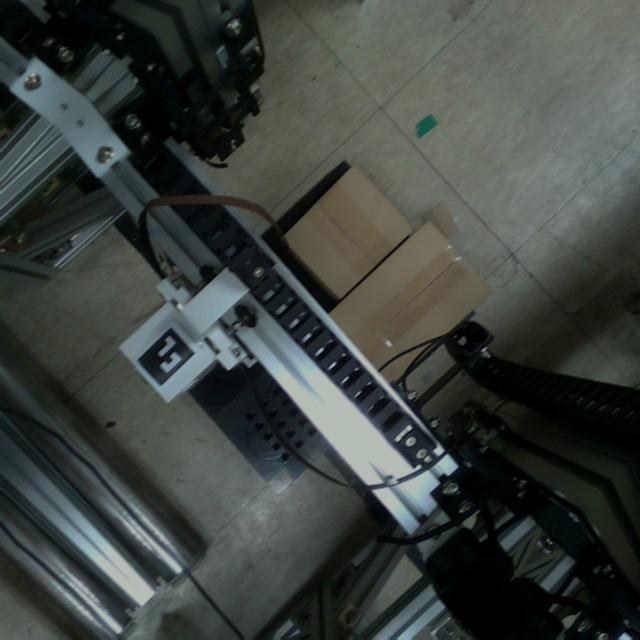box: (274, 160, 422, 308)
